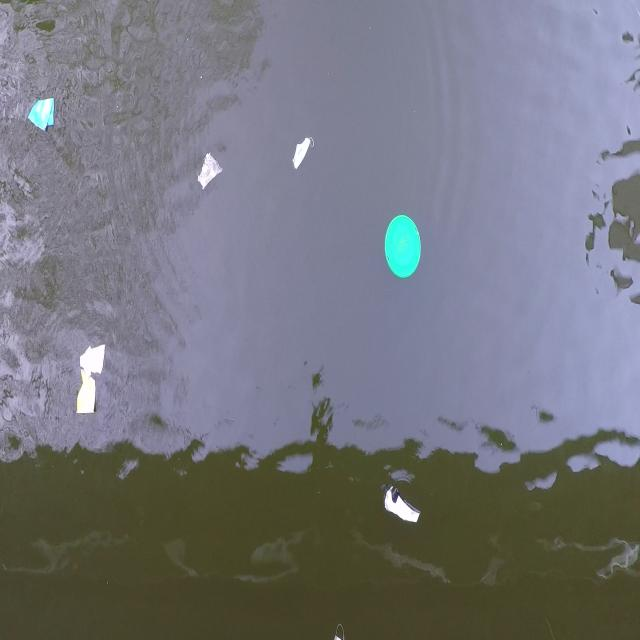Autre plastique: (381, 210, 426, 280), (26, 93, 60, 137)
Non plastique: (289, 130, 317, 177)
Sac plastique: (192, 147, 228, 197)
